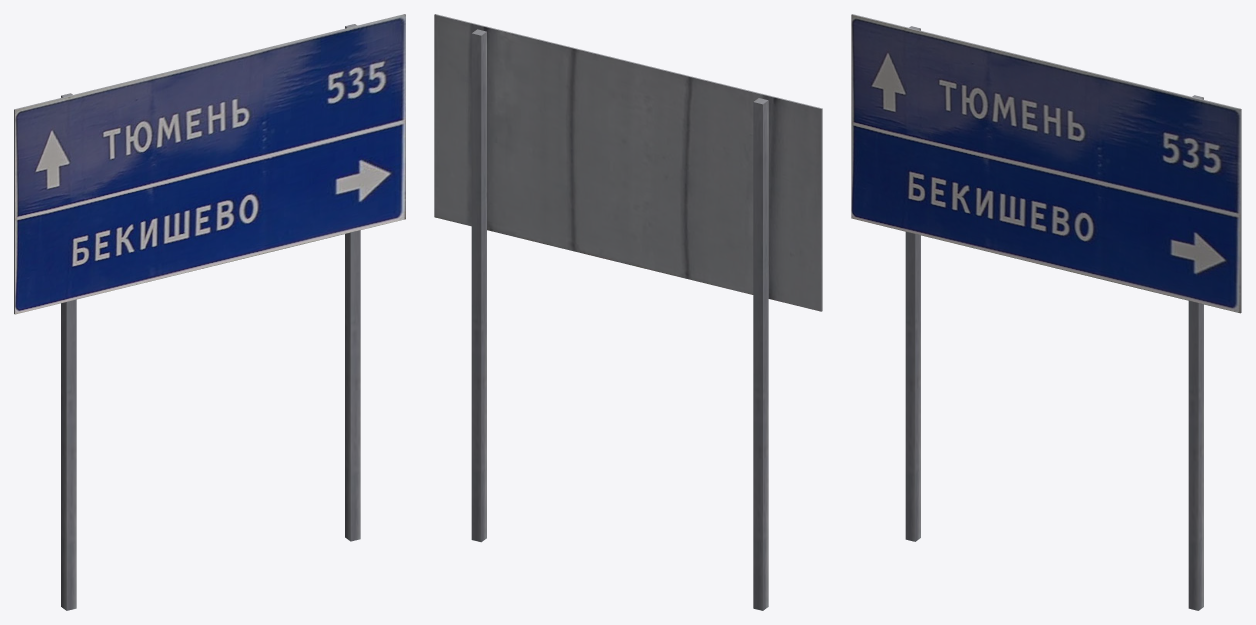
File: r402_znak_1.FBX
3 views of the same model, side by side, from view 1: azimuth 30°, elevation 25°; view 2: azimuth 150°, elevation 25°; view 3: azimuth 330°, elevation 25° (orthographic).
Visible parts, largest first — view 1: r402_znak_1; view 2: r402_znak_1; view 3: r402_znak_1.
Boxes of the visible parts, x1,y1,x2,y2 form: r402_znak_1: [14, 14, 405, 610]; r402_znak_1: [434, 14, 822, 610]; r402_znak_1: [851, 14, 1241, 610].
Size of the model in its own units: 2.4 by 0.0757 by 3.02.
